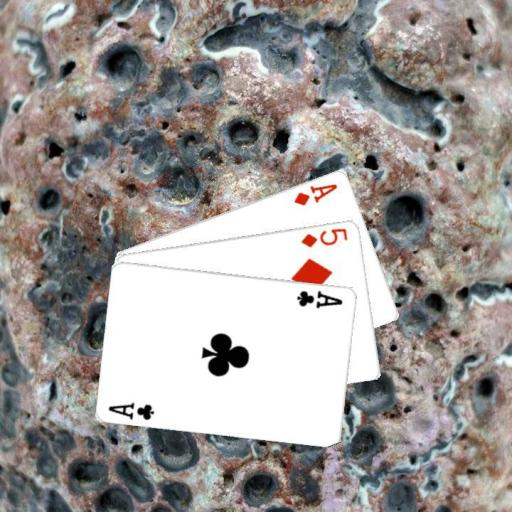5D: (298, 224, 349, 249)
AC: (295, 287, 345, 310), (106, 398, 156, 421)
AD: (291, 180, 339, 207)
